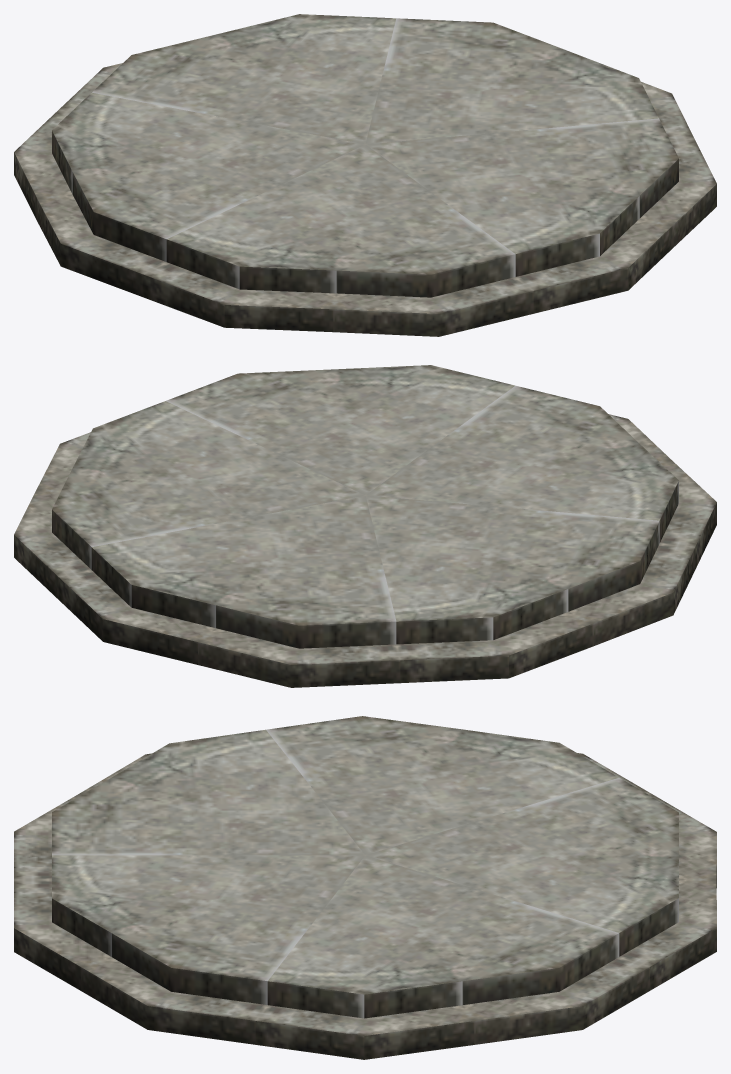
Rendered from warpgate02_01.fbx.
3 views of the same model, one above another, from view 1: azimuth 30°, elevation 25°; view 2: azimuth 150°, elevation 25°; view 3: azimuth 270°, elevation 25° (orthographic). The views are drawn at different scales.
Parts seen in each view (by area): view 1: gate02; view 2: gate02; view 3: gate02.
Boxes of the visible parts, x1=… form: gate02: x1=14, y1=14, x2=716, y2=336; gate02: x1=14, y1=365, x2=716, y2=687; gate02: x1=14, y1=716, x2=716, y2=1059.
Size of the model in its own units: 12.17 by 0.8804 by 11.58.
